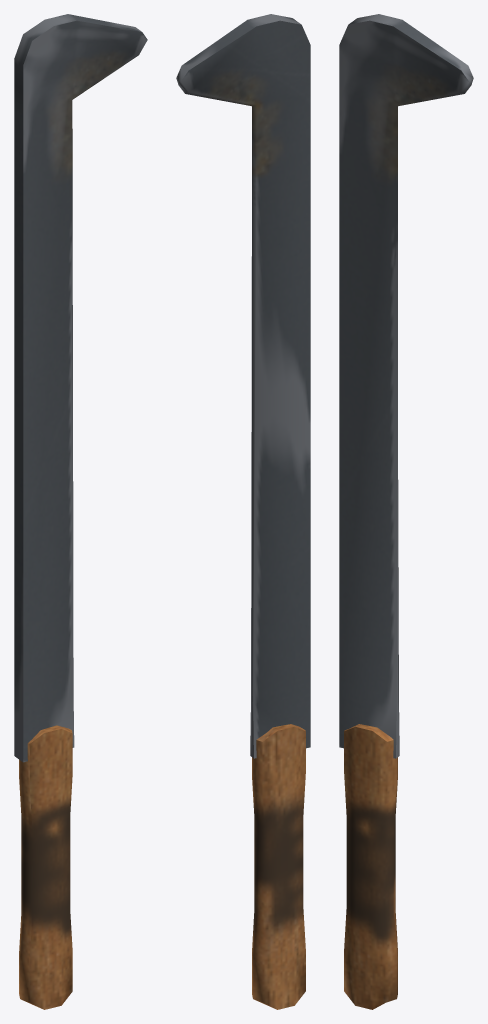
Rendered from FarmEquip_Slasher.fbx.
3 views of the same model, side by side, from view 1: azimuth 30°, elevation 25°; view 2: azimuth 210°, elevation 25°; view 3: azimuth 330°, elevation 25° (orthographic).
Visible parts, largest first — view 1: FarmEquip_Slasher; view 2: FarmEquip_Slasher; view 3: FarmEquip_Slasher.
Boxes of the visible parts, x1,y1,x2,y2 form: FarmEquip_Slasher: (14,14,147,1009); FarmEquip_Slasher: (176,14,310,1009); FarmEquip_Slasher: (339,14,473,1009).
Bounding box in the file's own units: 0.0811 × 0.5986 × 0.0158.
